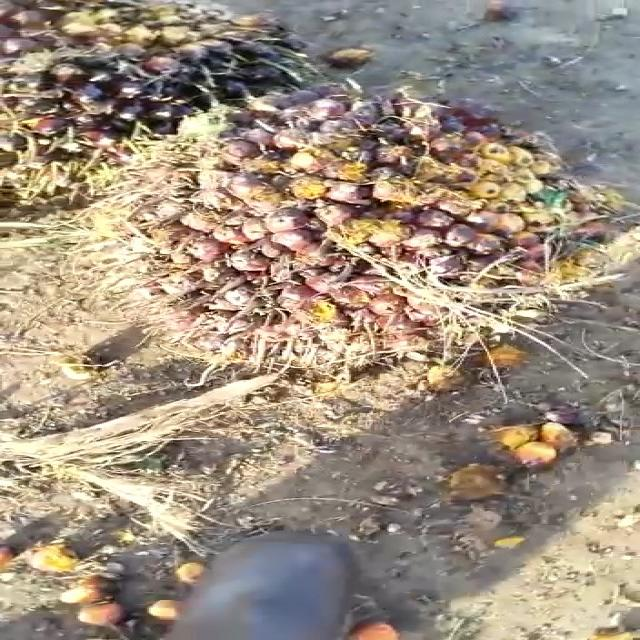palm oil: (111, 65, 634, 363)
